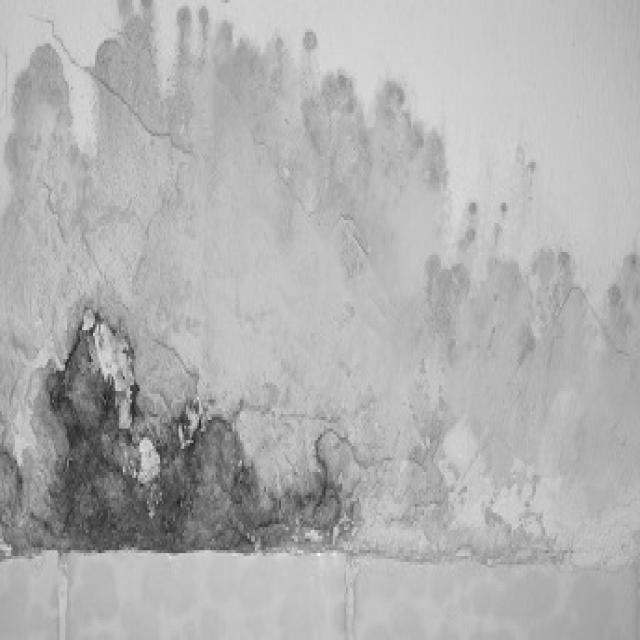stain marks: (1, 0, 355, 556), (357, 66, 638, 556)
